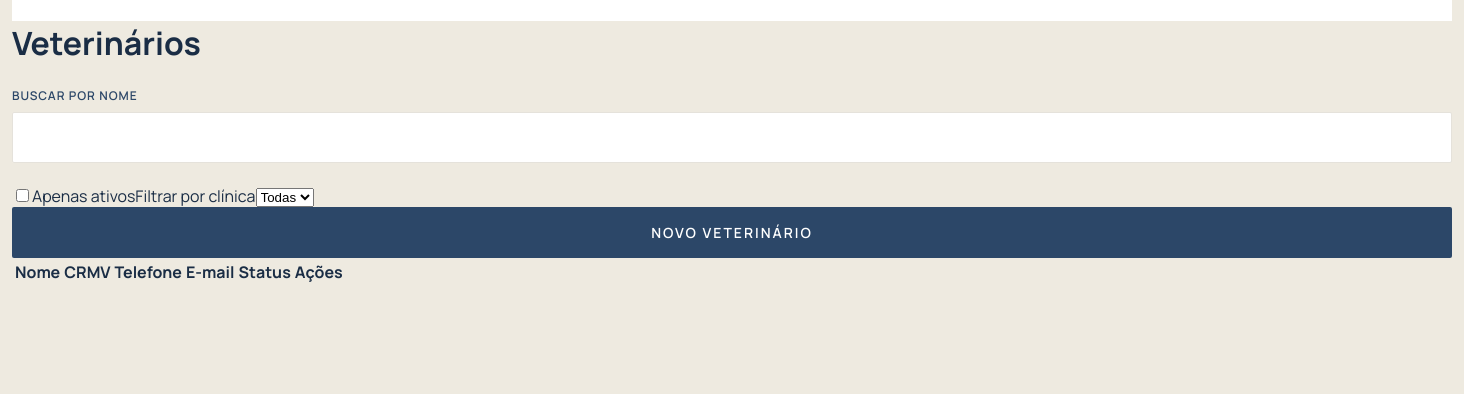
Test: TelaVeterinarios › sem clínica ativa cadastrada, o formulário orienta em vez de permitir submissão
What coordinates should you click on to do the following:
click the button "Novo veterinário"
I would click on:
 (732, 232)
Its box is top-left (12, 207), bottom-right (1452, 258).
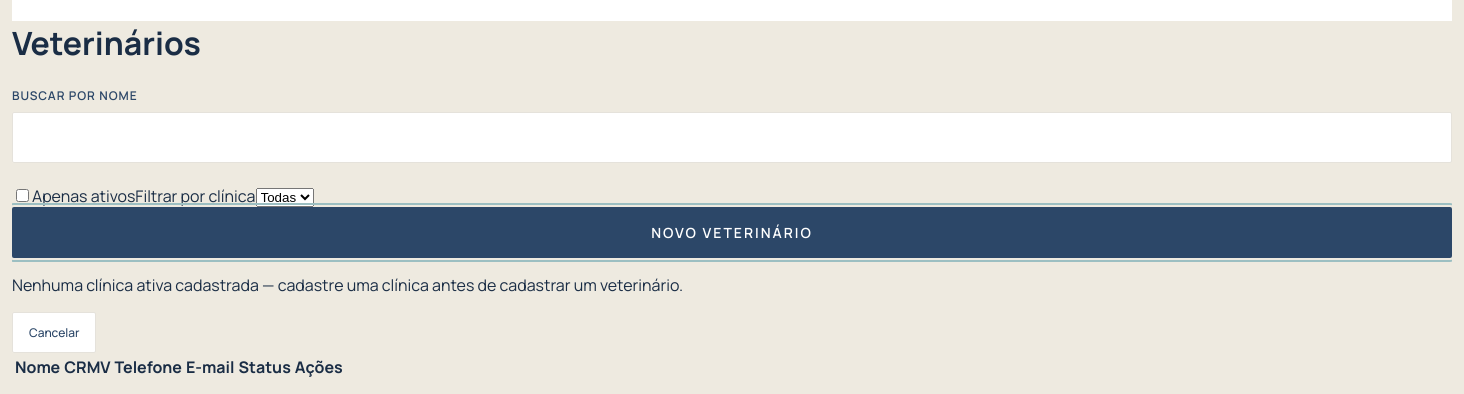
Result: the text "Nenhuma clínica ativa cadastrada" is shown at top-left (12, 274), bottom-right (683, 296)
